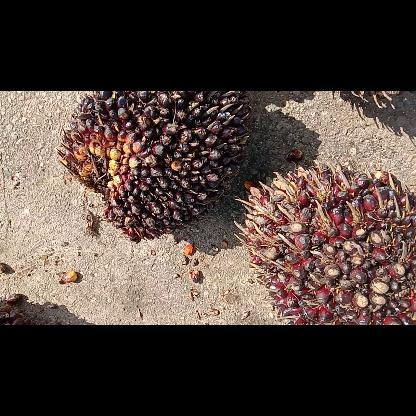TBS mentah: (62, 91, 246, 242), (245, 166, 414, 324)
